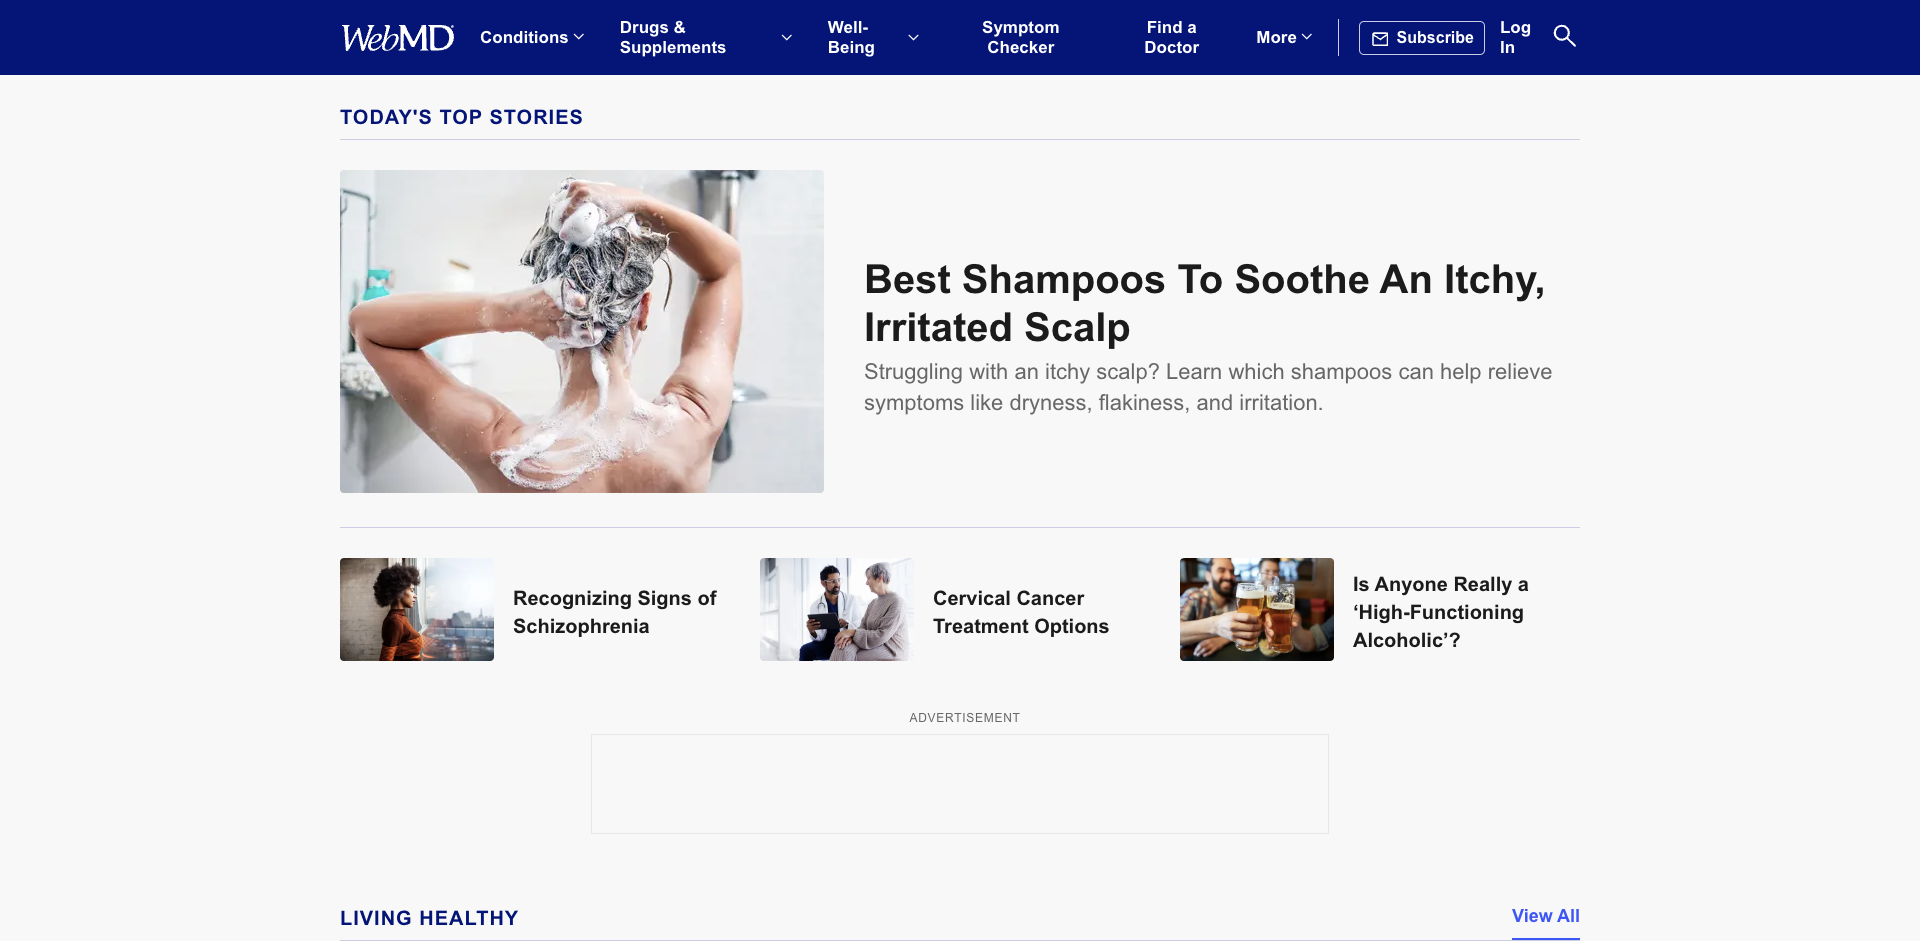button: (1359, 21, 1485, 54), (1455, 18, 1531, 56), (1550, 20, 1580, 56)
dropdown: (1109, 13, 1451, 60)
input: (1109, 13, 1451, 59)
link: (340, 170, 1580, 528), (340, 559, 740, 665), (760, 559, 1160, 665), (1180, 559, 1580, 665), (784, 288, 994, 353), (610, 10, 802, 65), (784, 196, 994, 241), (784, 399, 994, 445), (1041, 196, 1251, 241), (1041, 333, 1251, 379), (1041, 379, 1251, 424), (576, 196, 784, 241), (1212, 196, 1420, 241), (1212, 333, 1420, 379), (1212, 379, 1420, 424), (784, 105, 994, 149), (784, 151, 994, 195), (784, 243, 994, 287), (784, 354, 994, 398), (784, 446, 994, 490), (1041, 105, 1251, 149), (1041, 151, 1251, 195), (1041, 243, 1251, 287), (1041, 288, 1251, 332), (1041, 425, 1251, 469), (576, 105, 784, 149), (576, 151, 784, 195), (576, 243, 784, 287), (1212, 105, 1420, 149), (1212, 151, 1420, 195), (1212, 243, 1420, 287), (1212, 288, 1420, 332), (1212, 425, 1420, 469), (944, 10, 1097, 65), (436, 196, 622, 241), (436, 333, 622, 379), (436, 379, 622, 424), (900, 196, 1086, 241), (900, 333, 1086, 379), (900, 379, 1086, 424), (1131, 196, 1318, 241), (1131, 333, 1318, 379), (1131, 379, 1318, 424), (669, 196, 853, 241), (669, 333, 853, 379), (669, 379, 853, 424), (436, 105, 622, 149), (436, 151, 622, 195), (436, 243, 622, 287), (436, 288, 622, 332), (900, 105, 1086, 149), (900, 151, 1086, 195), (900, 243, 1086, 287), (900, 288, 1086, 332), (1131, 105, 1318, 149), (1131, 151, 1318, 195), (1131, 243, 1318, 287), (1131, 288, 1318, 332), (669, 105, 853, 149), (669, 151, 853, 195), (669, 243, 853, 287), (669, 288, 853, 332), (1113, 10, 1231, 65), (818, 10, 928, 65), (470, 20, 594, 55), (340, 25, 456, 50), (1247, 20, 1322, 55), (1512, 907, 1580, 929), (1500, 18, 1536, 58)
